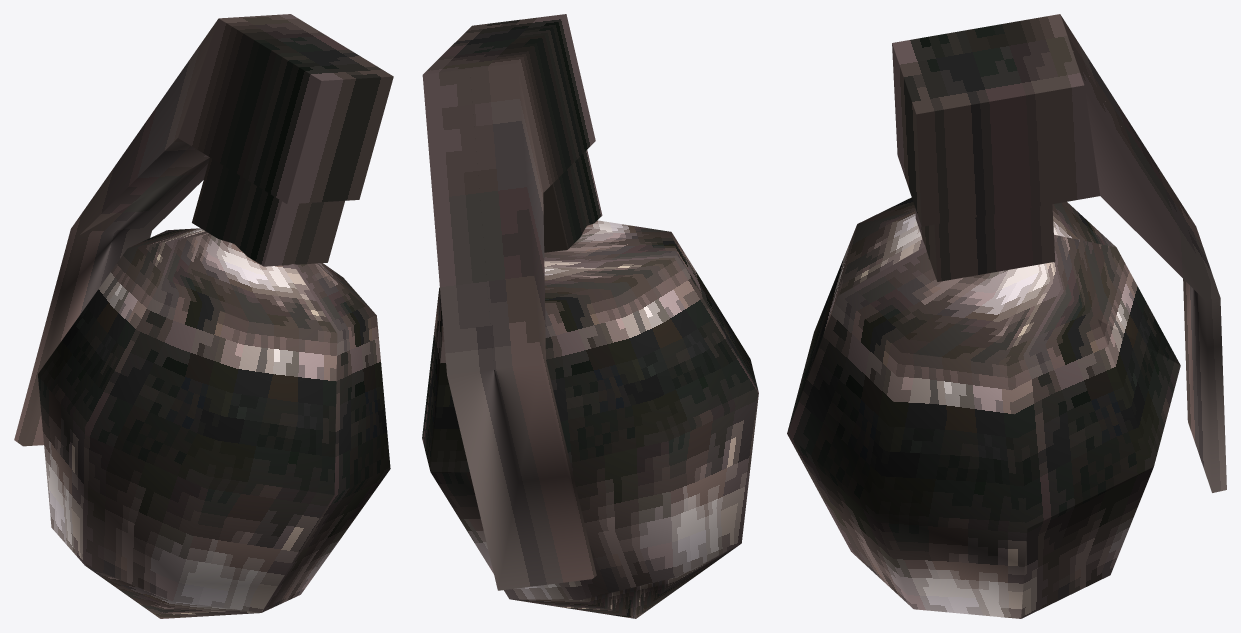
Rendered from Grenade.fbx.
3 views of the same model, side by side, from view 1: azimuth 30°, elevation 25°; view 2: azimuth 150°, elevation 25°; view 3: azimuth 270°, elevation 25° (orthographic). The views are drawn at different scales.
Visible parts, largest first — view 1: grenade; view 2: grenade; view 3: grenade.
Part boxes in pixels (x1,y1,x2,y2): grenade: (14,14,393,618); grenade: (422,14,758,618); grenade: (787,14,1226,618).
Size of the model in its own units: 8.29 by 14.8 by 9.61.
Materials: 1 (1 with a texture image).
